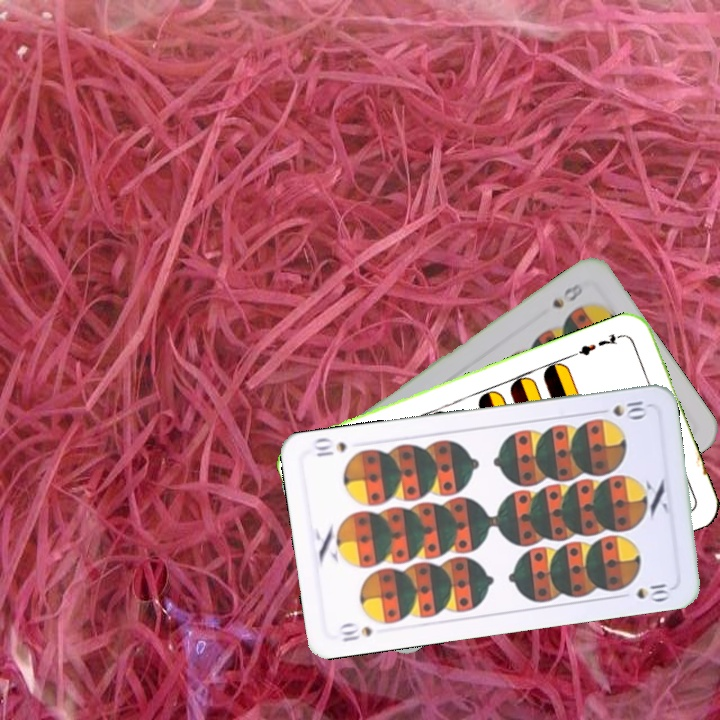E7: (570, 330, 627, 359)
S10: (335, 619, 376, 645), (608, 396, 651, 420)
S8: (548, 279, 586, 311)
